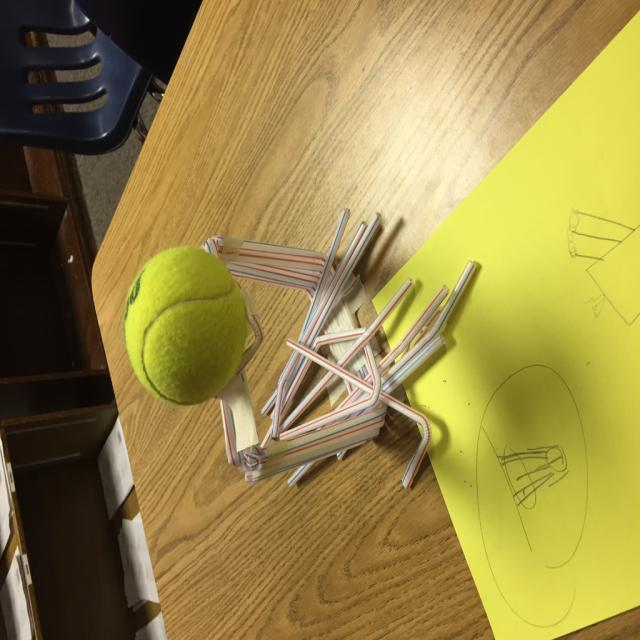Tennis ball: (121, 242, 248, 404)
